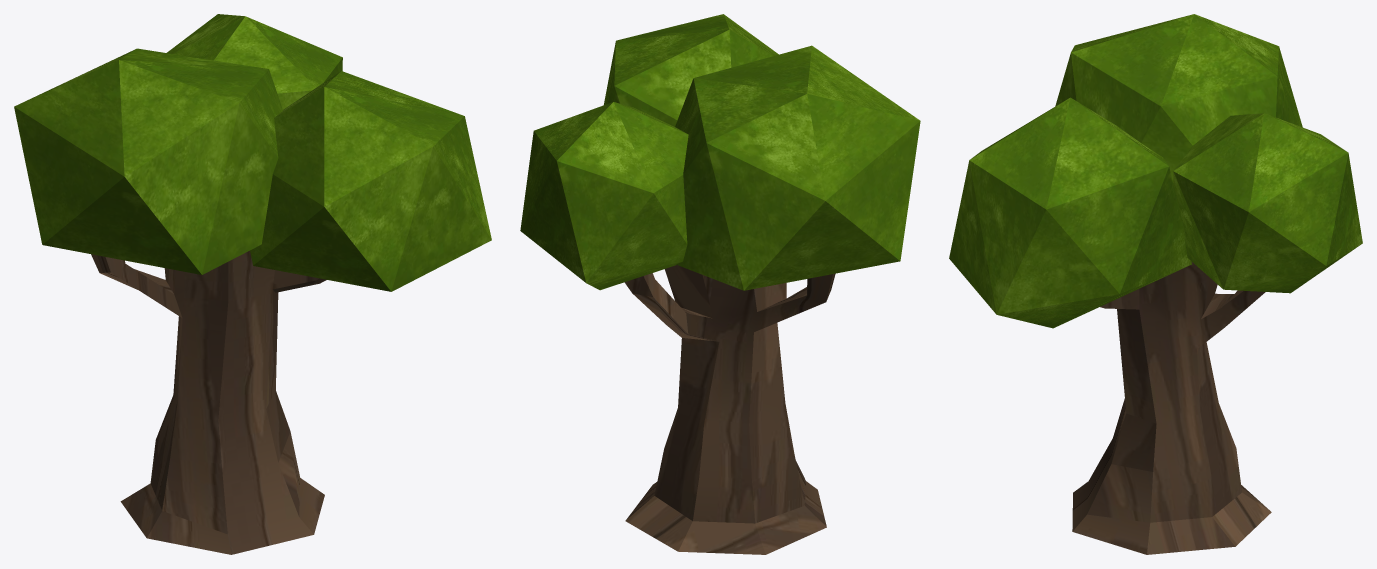
The model's file is tree.glb.
3 renders of one model, left to right at view 1: azimuth 30°, elevation 25°; view 2: azimuth 150°, elevation 25°; view 3: azimuth 270°, elevation 25°, orthographic. The views are drawn at different scales.
Parts seen in each view (by area): view 1: Icosphere.001, Cylinder; view 2: Icosphere.001, Cylinder; view 3: Icosphere.001, Cylinder.
Part boxes in pixels (x1,y1,x2,y2): Icosphere.001: (14, 14, 491, 291); Cylinder: (91, 250, 326, 554); Icosphere.001: (520, 14, 920, 290); Cylinder: (624, 265, 835, 554); Icosphere.001: (949, 14, 1362, 328); Cylinder: (1072, 262, 1271, 554).
Size of the model in its own units: 9.44 by 11.63 by 9.6.
2 materials, 2 textured.
